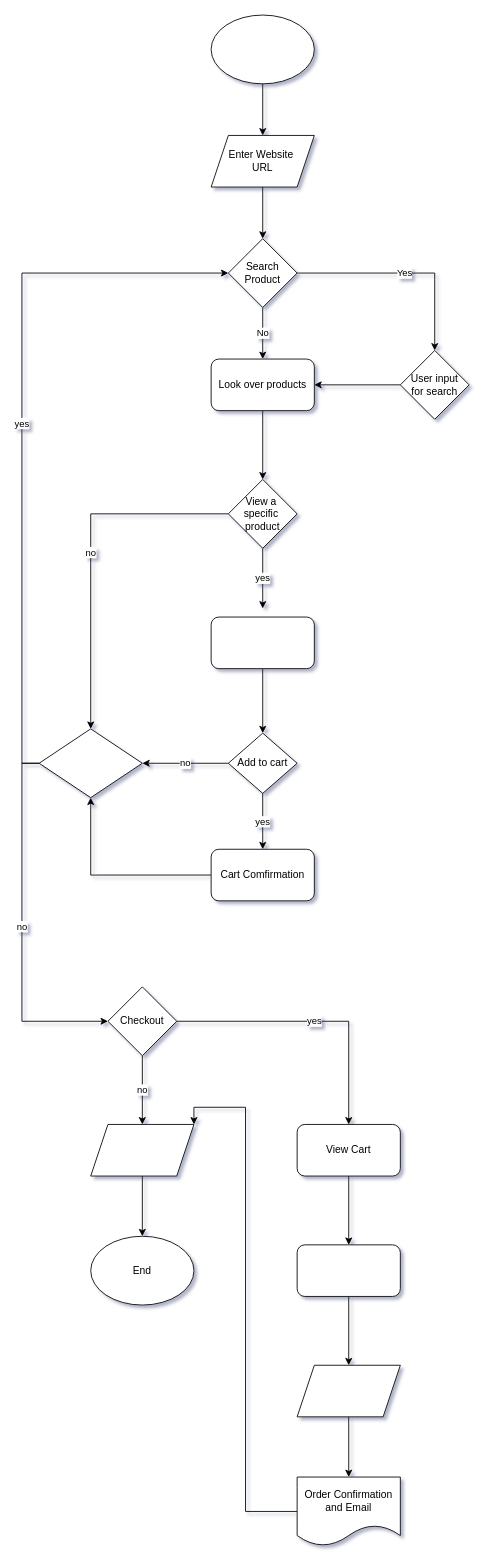
This 489x1566 diagram has some shape labels left out. Each missing label, with the box of its shape:
Continue Shopping: (38, 728, 142, 798)
Open product page: (210, 616, 314, 669)
Payment information: (296, 1364, 400, 1417)
Start: (210, 14, 314, 84)
User leave: (90, 1124, 194, 1176)
View Payment: (296, 1244, 400, 1296)
